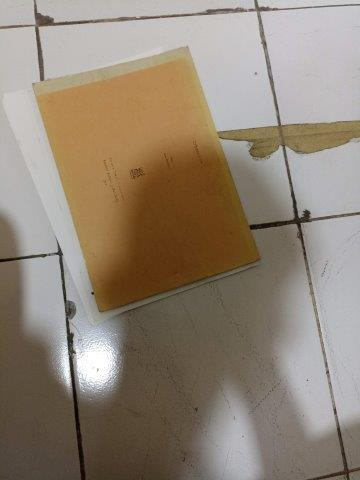kertas: (3, 44, 261, 326)
